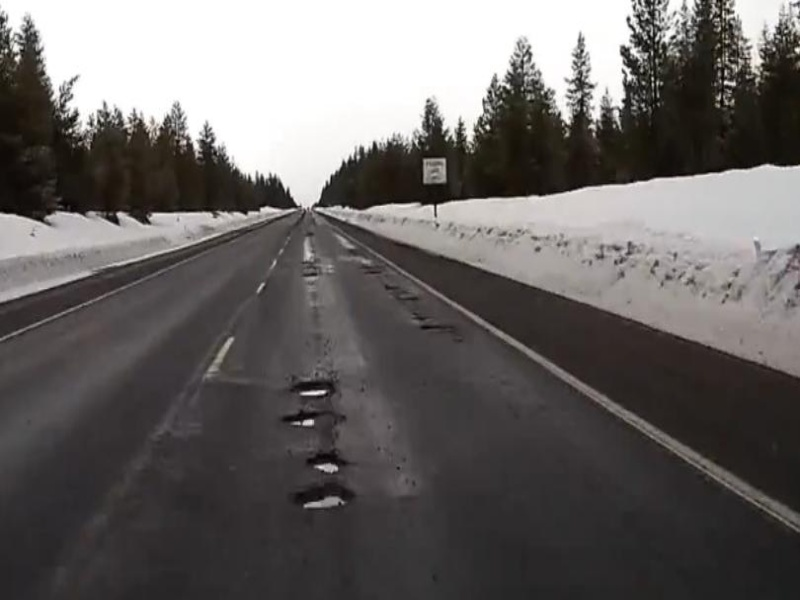pothole: (286, 487, 360, 513), (295, 448, 353, 477), (276, 406, 330, 430), (290, 376, 339, 402)
